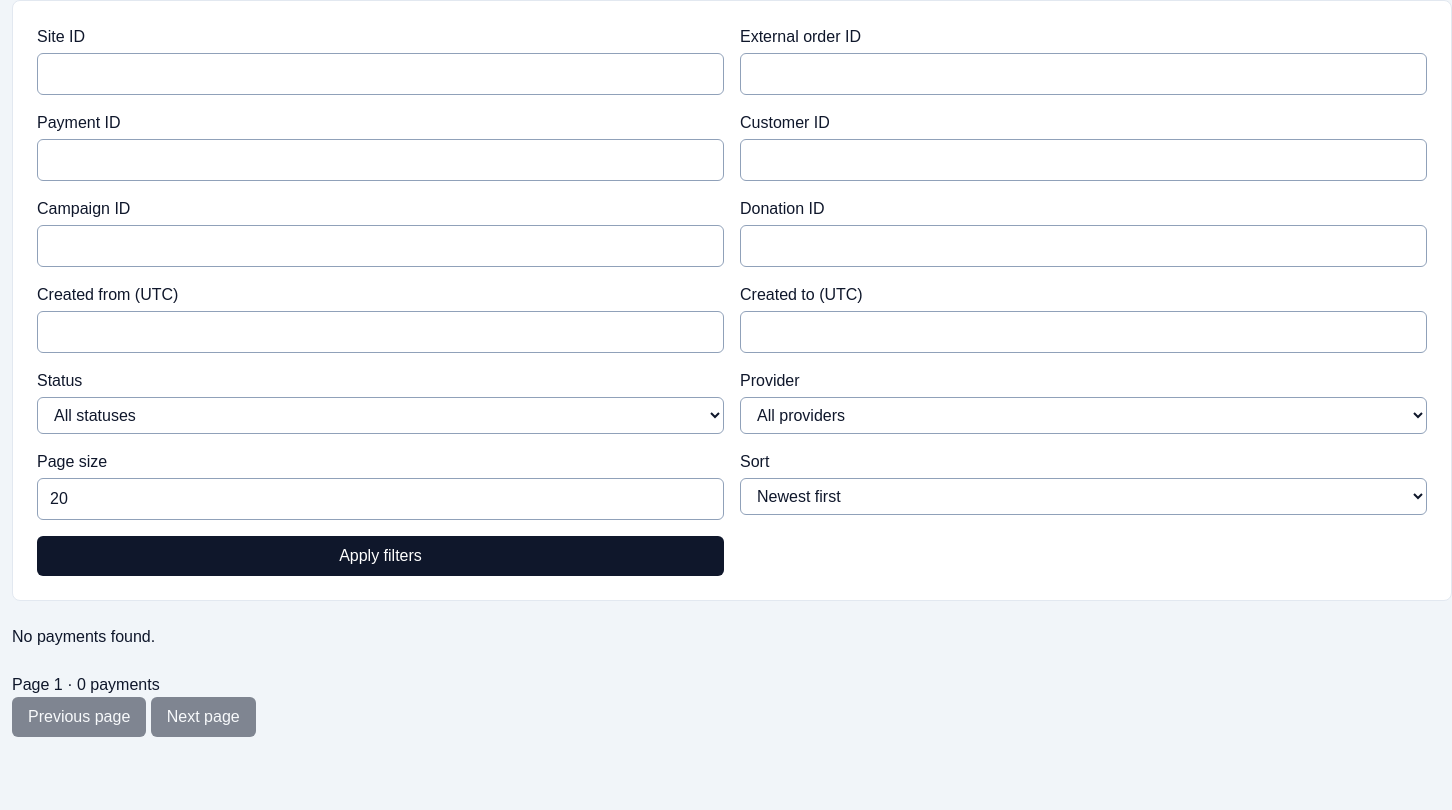
it: rejects invalid calendar instants and reversed UTC ranges without replacing results
The width and height of the screenshot is (1452, 810).
Expected: the text "No payments found." is shown, [12,628,155,645]
Step 1. Type "2027-02-30T00:00:00Z" into the field labelled "Created from (UTC)" → [380, 332], box [37,311,724,353]
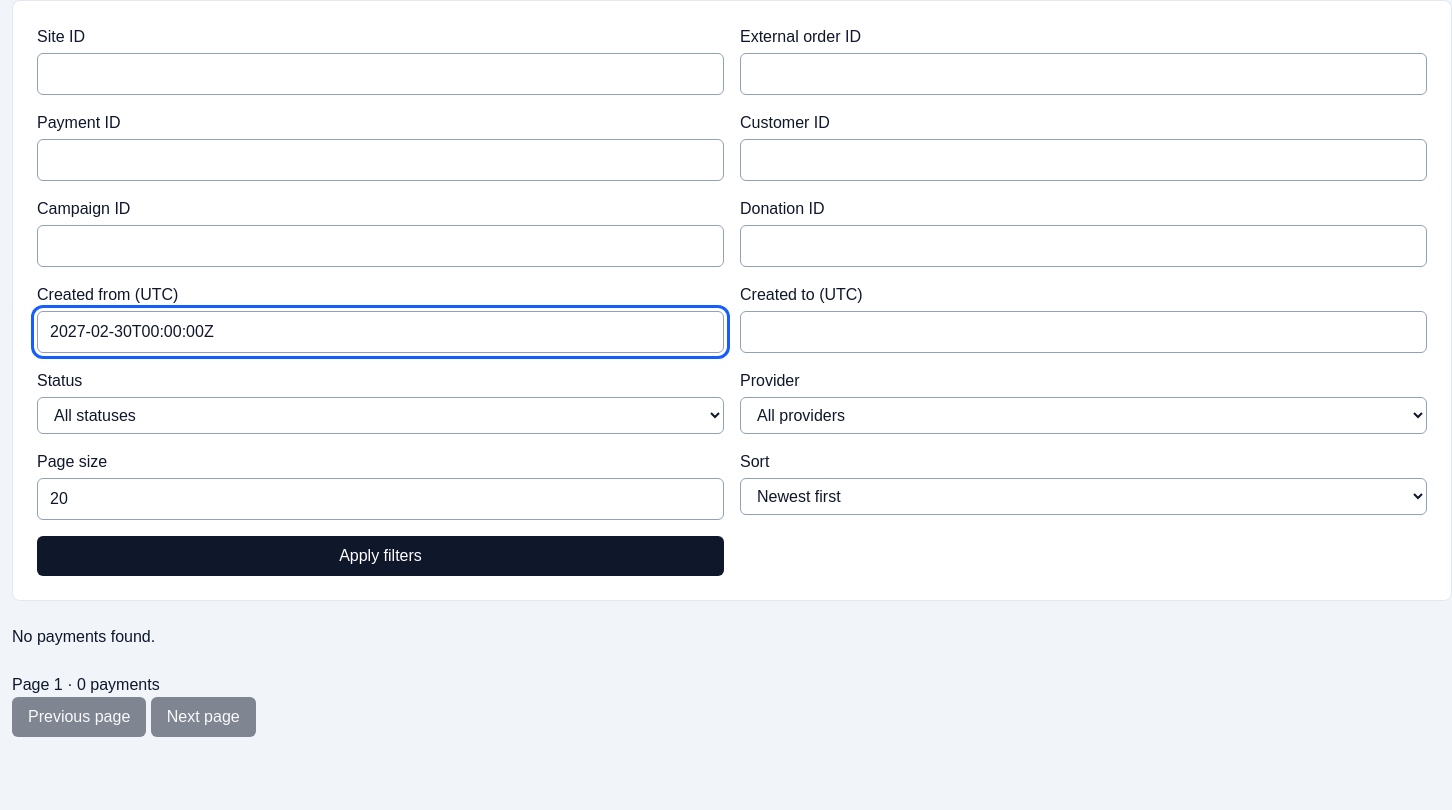
Step 2. Click the button "Apply filters" → [380, 556], box [37,536,724,576]
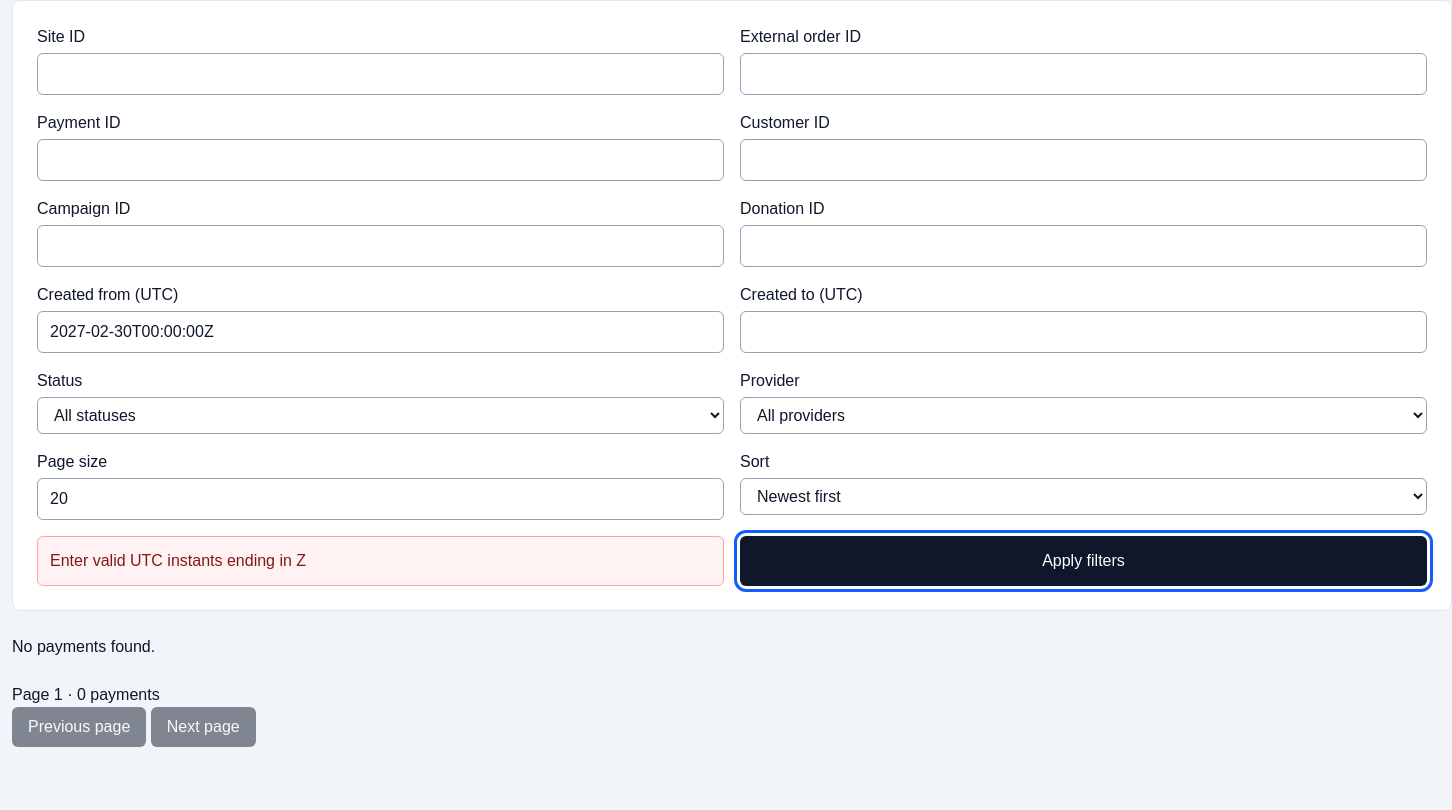
Expected: the message "Enter valid UTC instants ending in Z" is shown, [37,536,724,586]
Step 3. Replace the text in the field labelled "Created from (UTC)" with "2027-02-28T00:00:00Z" → [380, 332], box [37,311,724,353]
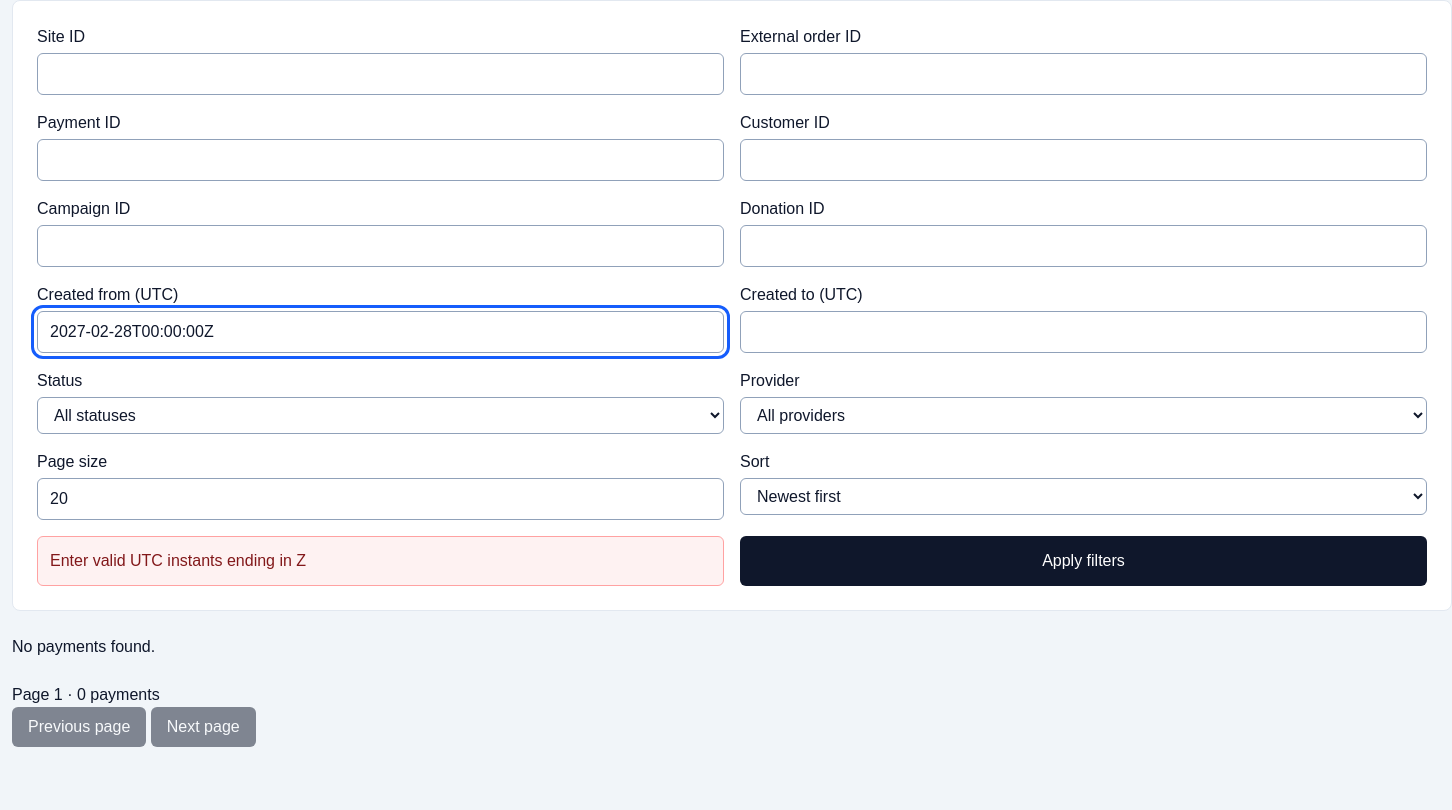
Step 4. Type "2027-02-27T00:00:00Z" into the field labelled "Created to (UTC)" → [1084, 332], box [740,311,1427,353]
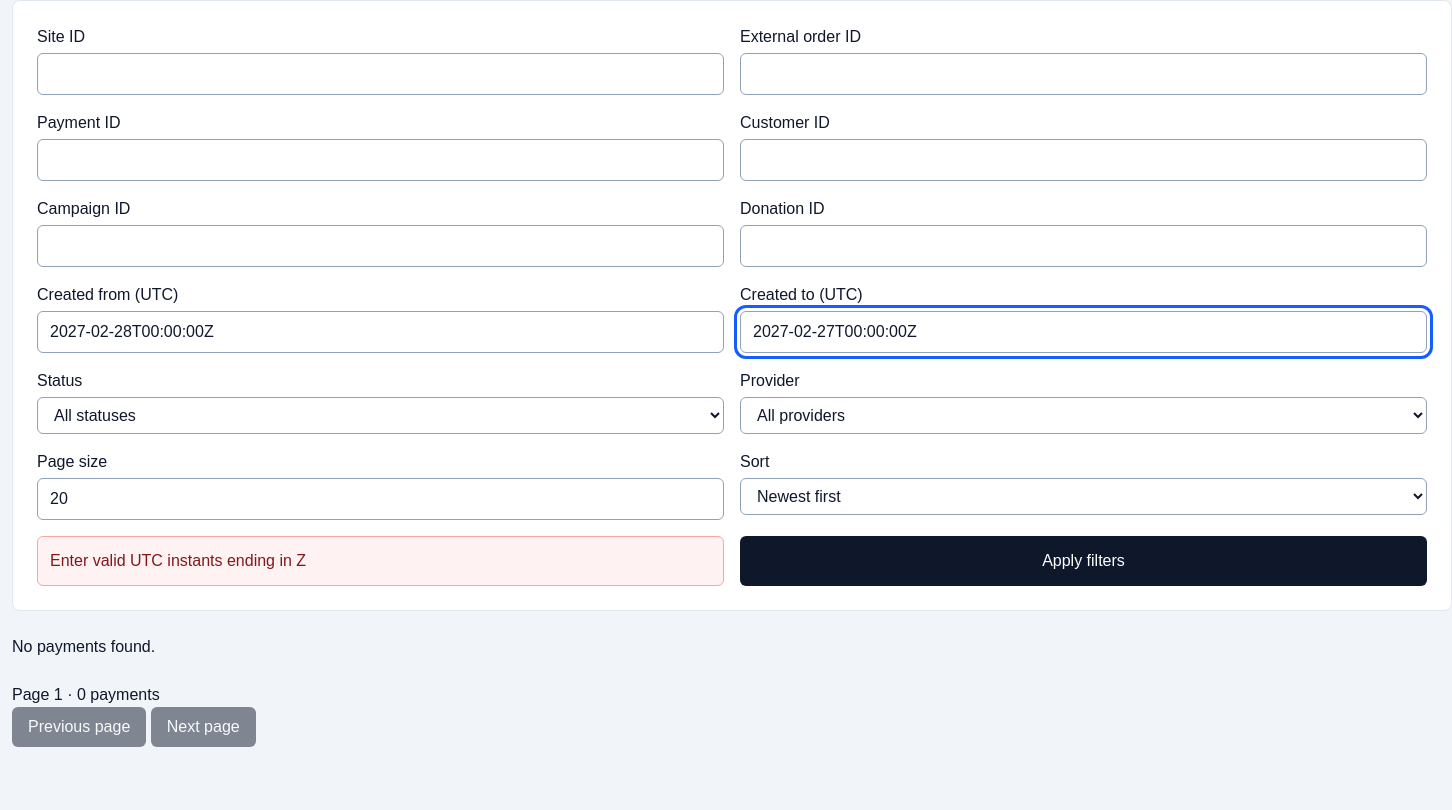
Step 5. Click the button "Apply filters" → [1084, 561], box [740,536,1427,586]
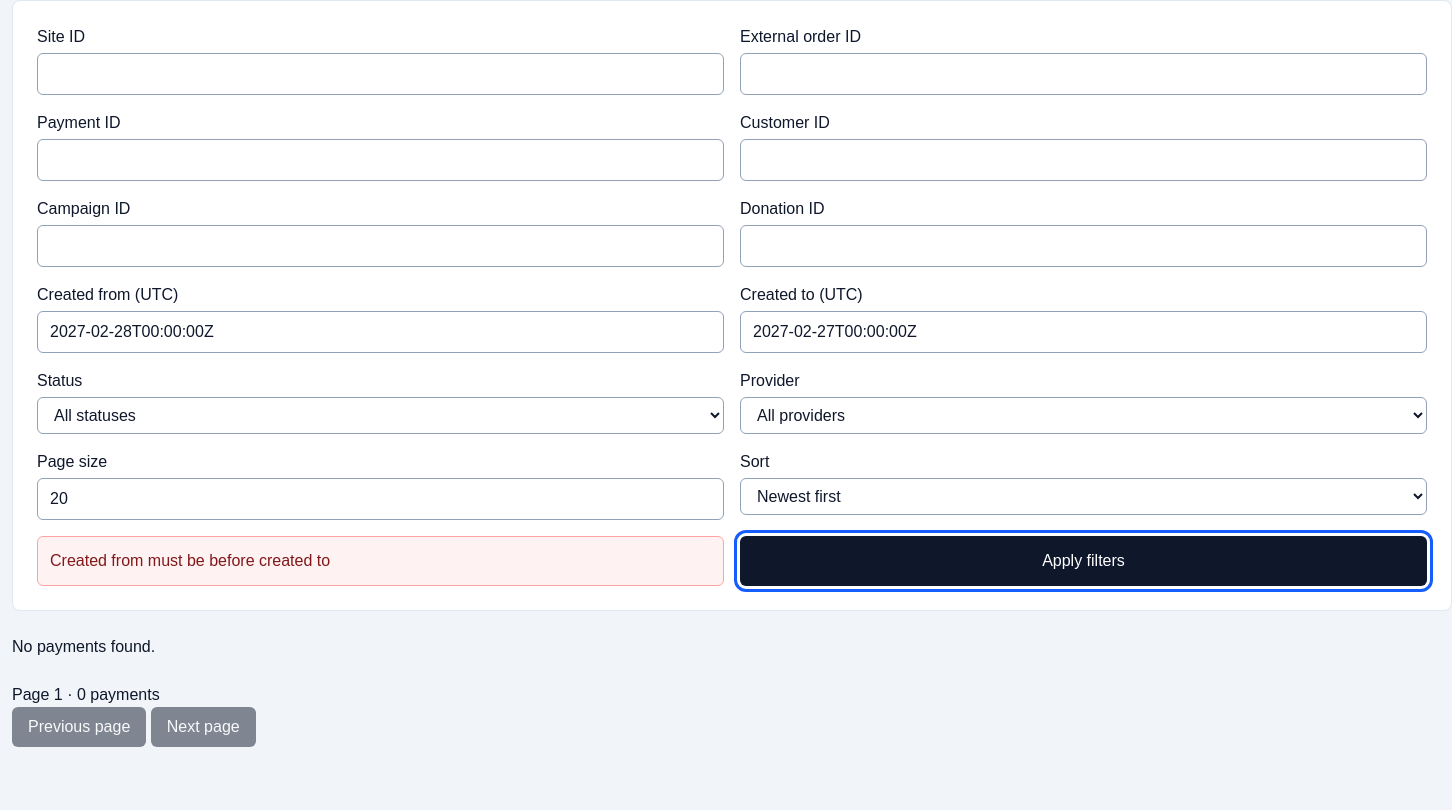
Expected: the message "Created from must be before created to" is shown, [37,536,724,586]
